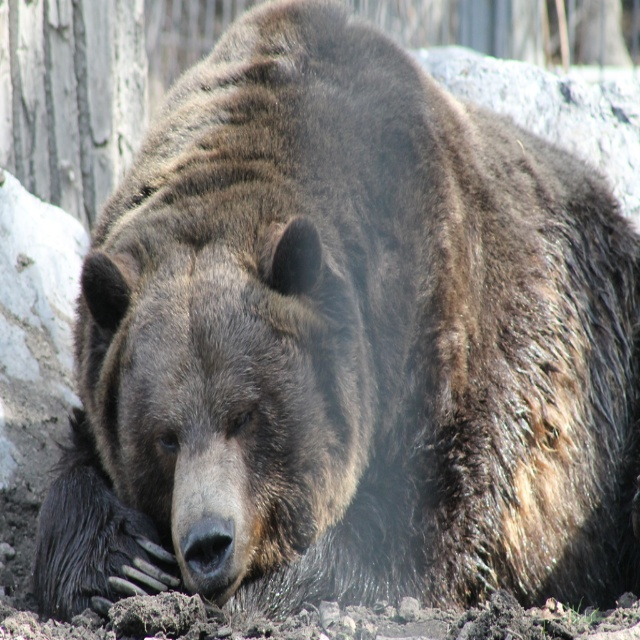Brown bear: (32, 0, 640, 619)
